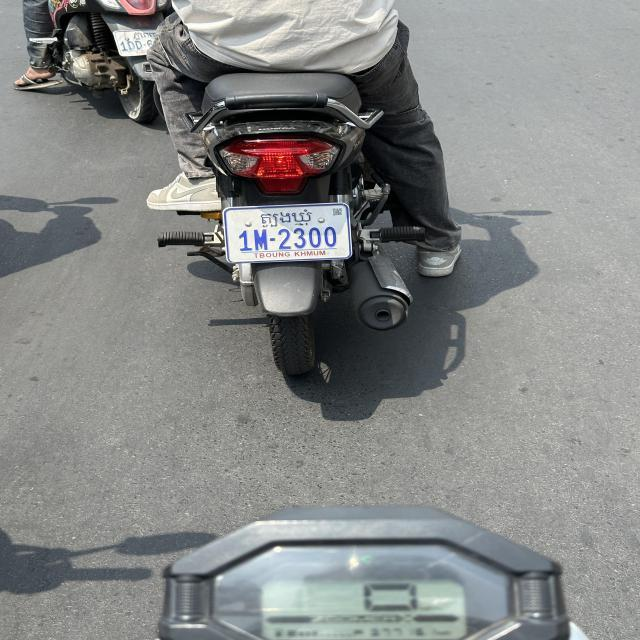Tboung_Khmum: (257, 208, 313, 228)
